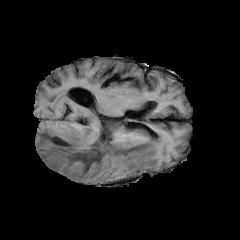glioma: (36, 110, 162, 176)
